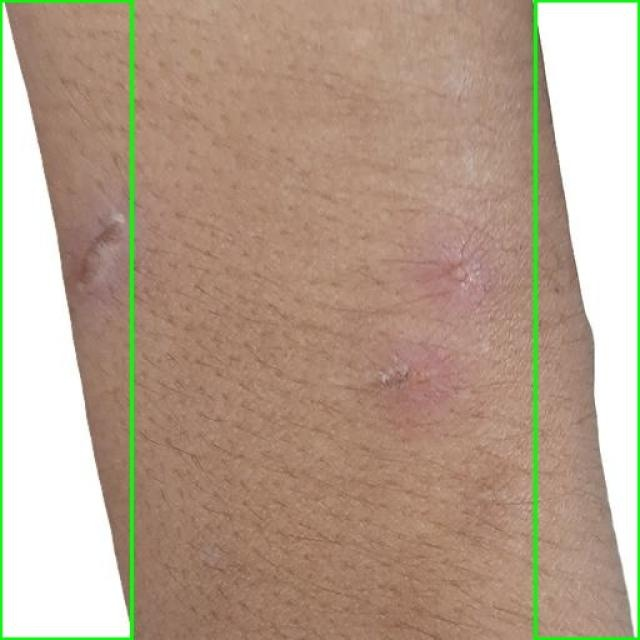Scabies: (0, 0, 131, 639), (535, 0, 639, 639)
